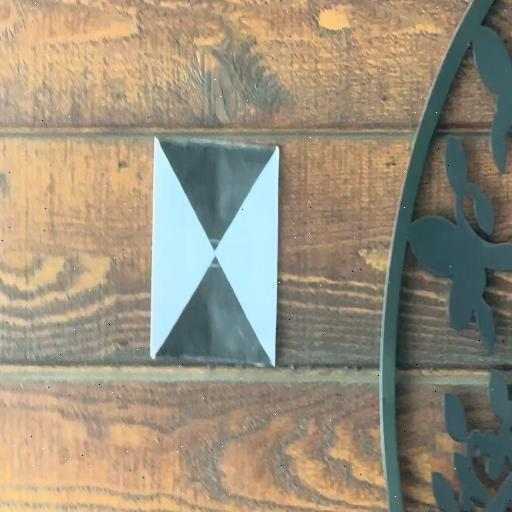target: (155, 138, 277, 367)
